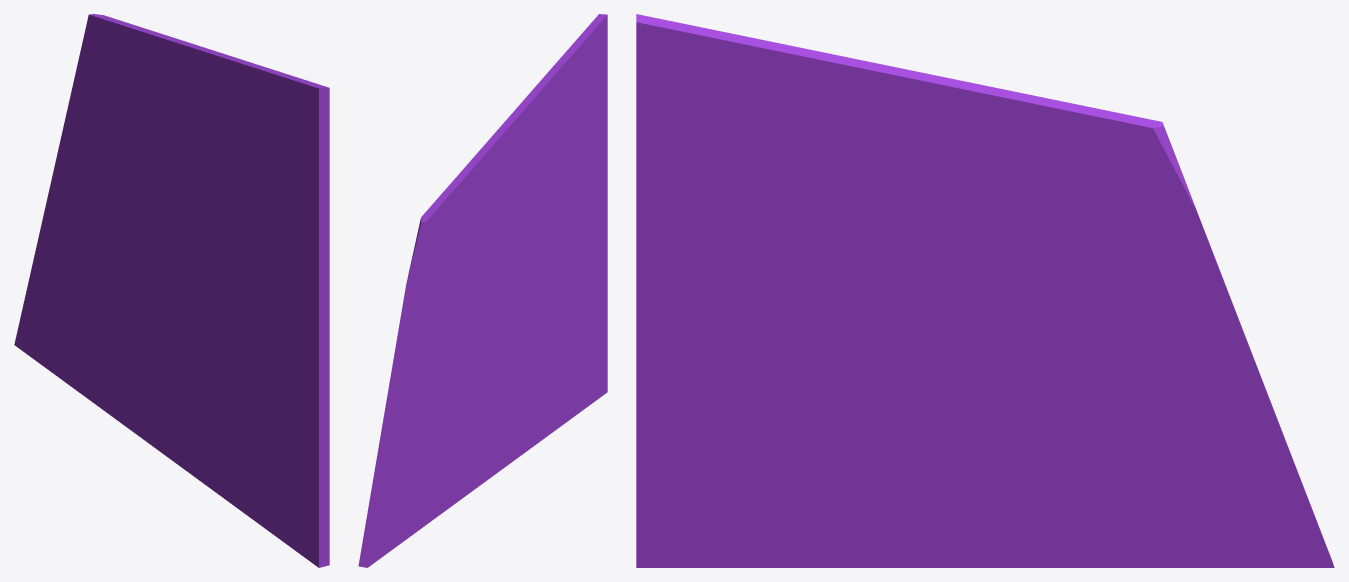
The model's file is Window_45_0_chunks.fbx.
3 renders of one model, left to right at view 1: azimuth 30°, elevation 25°; view 2: azimuth 150°, elevation 25°; view 3: azimuth 270°, elevation 25°, orthographic. The views are drawn at different scales.
Visible parts, largest first — view 1: Window_45_0_8, Window_45_0_1, Window_45_0_9, Window_45_0_20, Window_45_0_27, Window_45_0_12, Window_45_0_7, Window_45_0_13, Window_45_0_0, Window_45_0_15, Window_45_0_29, Window_45_0_11 (+16 smaller); view 2: Window_45_0_8, Window_45_0_1, Window_45_0_20, Window_45_0_9, Window_45_0_27, Window_45_0_7, Window_45_0_12, Window_45_0_13, Window_45_0_0, Window_45_0_15, Window_45_0_29, Window_45_0_26 (+16 smaller); view 3: Window_45_0_1, Window_45_0_8, Window_45_0_7, Window_45_0_20, Window_45_0_9, Window_45_0_27, Window_45_0_13, Window_45_0_12, Window_45_0_15, Window_45_0_11, Window_45_0_18, Window_45_0_0 (+13 smaller).
Boxes of the visible parts, box(x1,y1,x2,y2) form: Window_45_0_8: box(218, 139, 329, 326); Window_45_0_1: box(212, 250, 329, 472); Window_45_0_9: box(120, 24, 218, 253); Window_45_0_20: box(14, 219, 100, 386); Window_45_0_27: box(139, 30, 243, 173); Window_45_0_12: box(218, 443, 329, 567); Window_45_0_7: box(99, 16, 161, 209); Window_45_0_13: box(161, 367, 240, 493); Window_45_0_0: box(159, 222, 217, 358); Window_45_0_15: box(121, 324, 178, 451); Window_45_0_29: box(237, 71, 329, 128); Window_45_0_11: box(239, 380, 329, 512); Window_45_0_8: box(528, 57, 607, 260); Window_45_0_1: box(523, 202, 607, 340); Window_45_0_20: box(358, 414, 435, 567); Window_45_0_9: box(444, 174, 528, 287); Window_45_0_27: box(459, 117, 547, 197); Window_45_0_7: box(423, 191, 483, 315); Window_45_0_12: box(528, 348, 607, 449); Window_45_0_13: box(483, 367, 545, 482); Window_45_0_0: box(481, 265, 527, 354); Window_45_0_15: box(452, 392, 496, 505); Window_45_0_29: box(543, 14, 607, 132); Window_45_0_26: box(384, 279, 423, 417); Window_45_0_1: box(636, 286, 896, 462); Window_45_0_8: box(636, 80, 866, 287); Window_45_0_7: box(988, 107, 1146, 349); Window_45_0_20: box(1135, 402, 1334, 567); Window_45_0_9: box(866, 98, 1090, 288); Window_45_0_27: box(813, 67, 1047, 189); Window_45_0_13: box(800, 413, 984, 567); Window_45_0_12: box(636, 487, 856, 567); Window_45_0_15: box(960, 461, 1125, 567); Window_45_0_11: box(636, 422, 832, 508); Window_45_0_18: box(907, 331, 1058, 439); Window_45_0_0: box(884, 288, 1013, 391).
Bounding box in the file's own units: 27.2 × 1156 × 1335.
